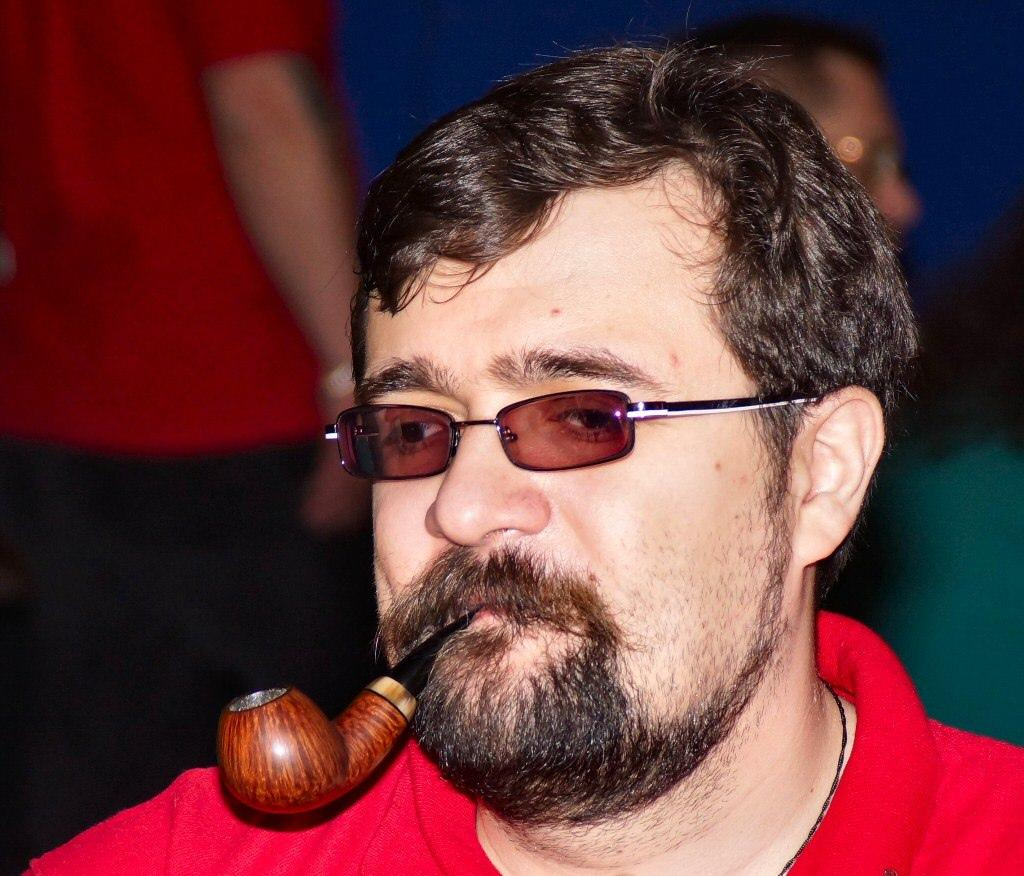trubka: (217, 614, 470, 814)
